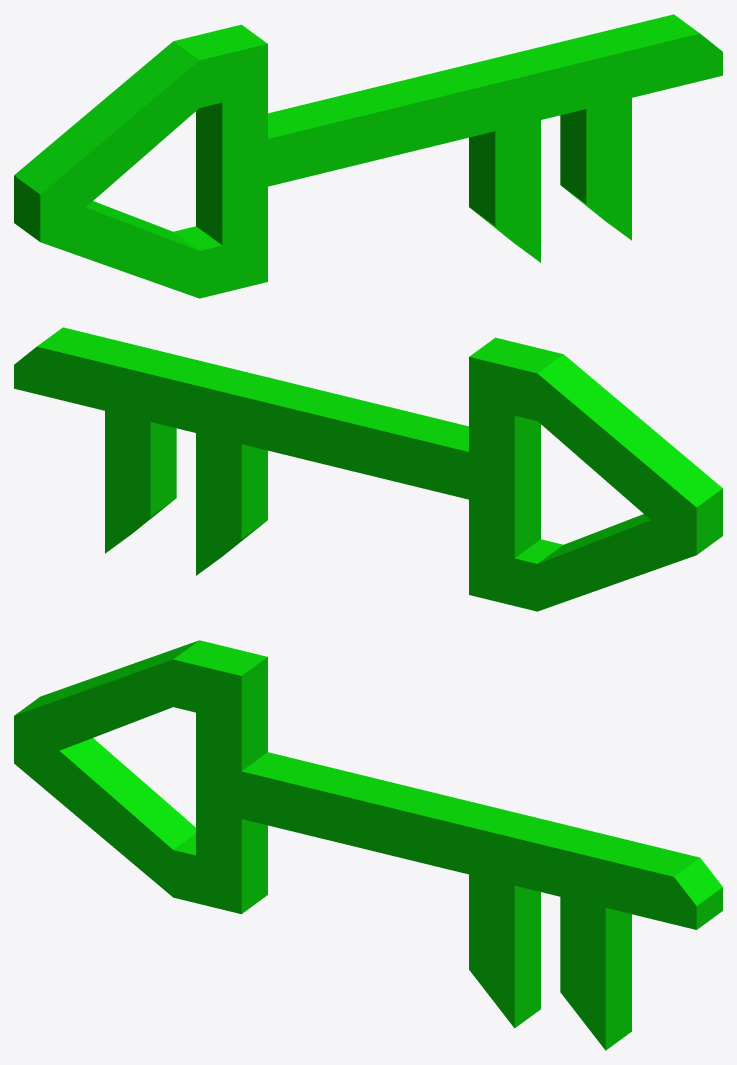
Rendered from Items.fbx_Key_10.fbx.
3 renders of one model, top to bottom at view 1: azimuth 30°, elevation 25°; view 2: azimuth 150°, elevation 25°; view 3: azimuth 330°, elevation 25°, orthographic.
Visible parts, largest first — view 1: Key 10; view 2: Key 10; view 3: Key 10.
Part boxes in pixels (box(x1,y1,x2,y2)): Key 10: box(14, 14, 722, 298); Key 10: box(14, 327, 722, 611); Key 10: box(14, 640, 722, 1050).
Size of the model in its own units: 30 by 12 by 2.
